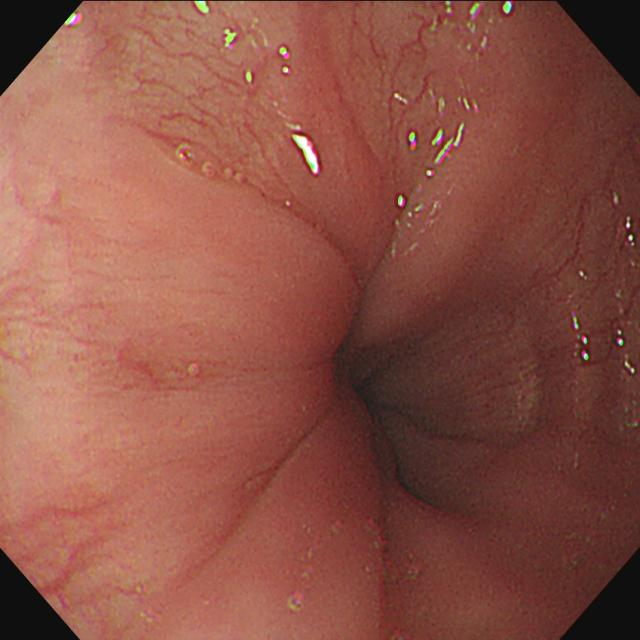E: (337, 343, 396, 438)
U: (407, 119, 469, 180), (291, 125, 322, 178), (569, 308, 593, 366), (276, 42, 294, 76), (222, 28, 239, 50)
